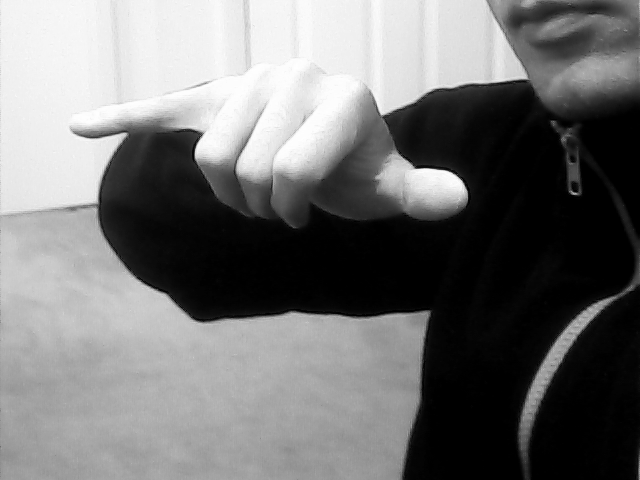aloha: (69, 57, 466, 237)
